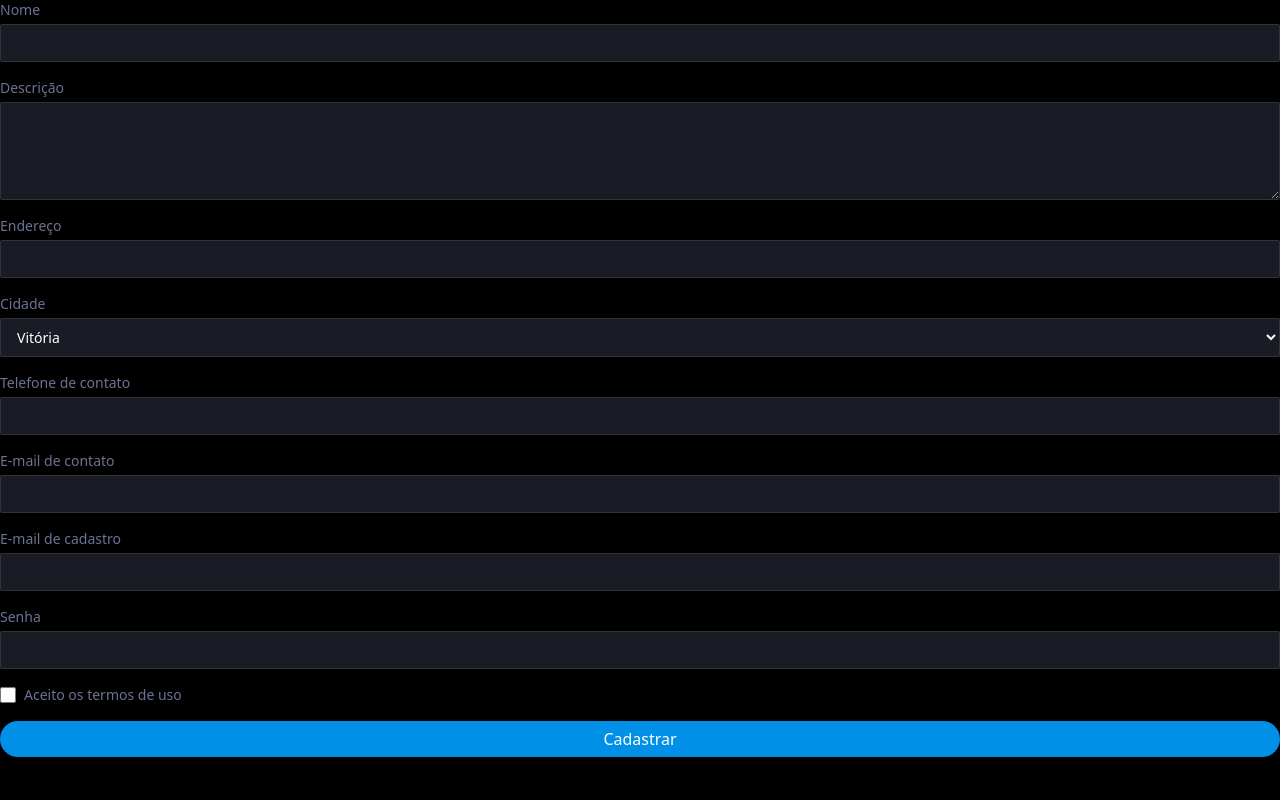
Scenario: RegistrationForm (venue) › GIVEN required fields left empty WHEN submitted THEN it blocks submit and shows pt-BR field errors
Click the button "Cadastrar": (640, 739) [0, 721, 1279, 757]
(page scrolled)
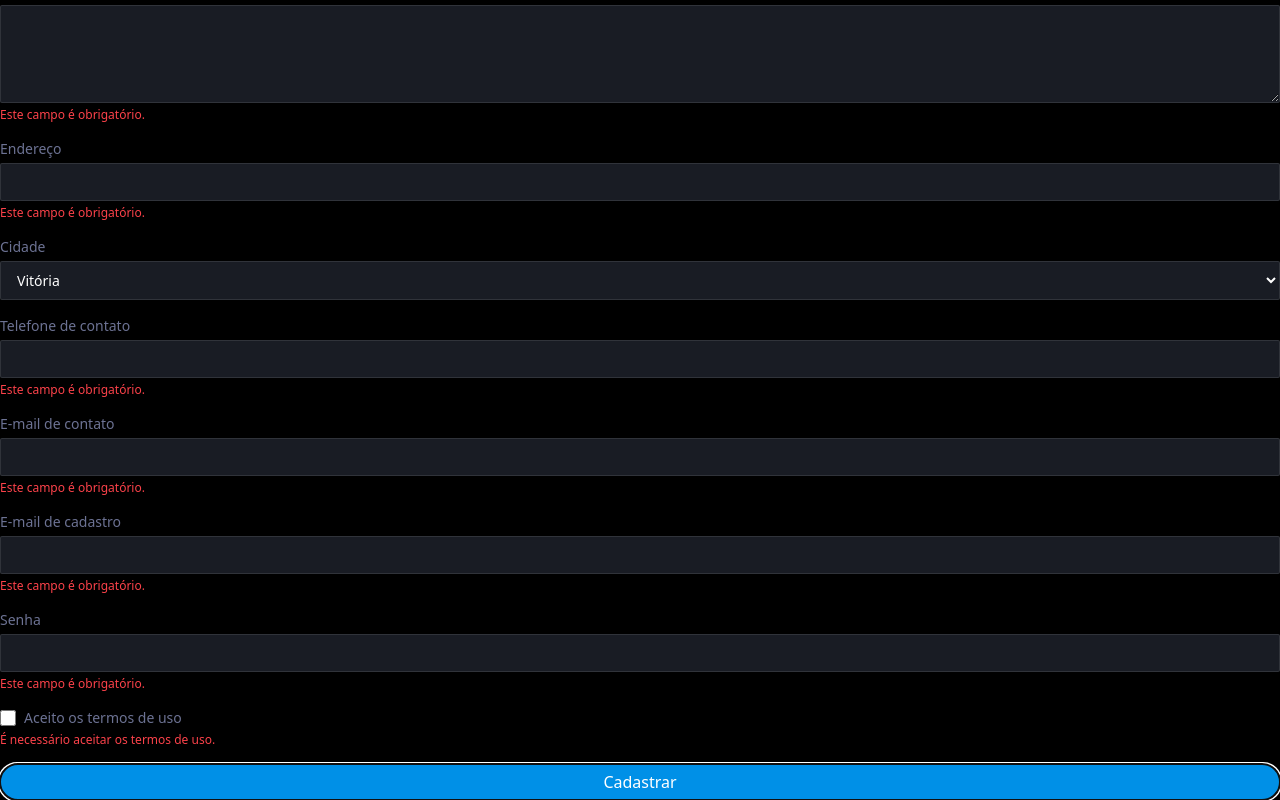
Now the text "É necessário aceitar os termos de uso." is shown, box [0, 731, 215, 748]
